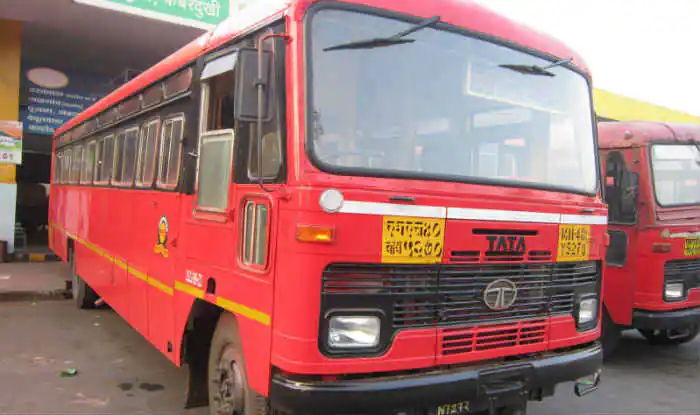bus: (41, 12, 607, 415), (592, 113, 699, 353)
